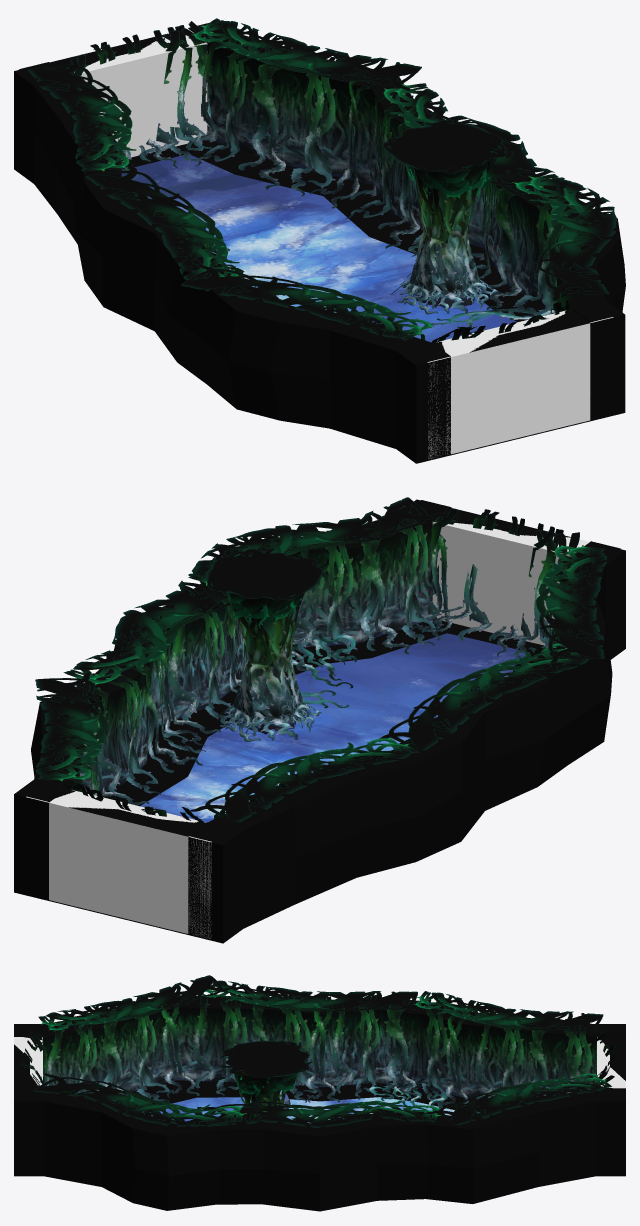
File: Dungeon_012_Road_002.fbx
3 renders of one model, top to bottom at view 1: azimuth 30°, elevation 25°; view 2: azimuth 150°, elevation 25°; view 3: azimuth 270°, elevation 25°, orthographic. The views are drawn at different scales.
Parts seen in each view (by area): view 1: Dan1, Dungeon_021_Tsuta_002, Dan2, Dungeon_021_Tsuta_001, DoorWay_NavMask (1), DoorWay_NavMask (×2), Dungeon_021_Object_011, Dan1_shadow, Dungeon_021_Object_010, un_021_Door_002_Object1 (×2), un_021_Door_002 (×2), Dungeon_021_Tsuta_003; view 2: Dan1, Dungeon_021_Tsuta_002, Dan2, Dungeon_021_Tsuta_001, DoorWay_NavMask (1), DoorWay_NavMask (×2), Dungeon_021_Object_011, un_021_Door_002_Object1 (×2), Dungeon_021_Object_010, Dan1_shadow, un_021_Door_002 (×2), Dungeon_021_Tsuta_003 (+1 smaller); view 3: Dan1, Dungeon_021_Tsuta_002, Dungeon_021_Tsuta_001, Dungeon_021_Object_010, Dan1_shadow, un_021_Door_002 (×2), Dan2, DoorWay_NavMask (×2), un_021_Door_002_Object1 (×2), Dungeon_021_Tsuta_003, Dungeon_021_Object_011.
Part boxes in pixels (bbox=[...]): Dan1: bbox=[14, 20, 625, 463]; Dungeon_021_Tsuta_002: bbox=[28, 18, 616, 340]; Dan2: bbox=[121, 155, 516, 342]; Dungeon_021_Tsuta_001: bbox=[54, 38, 591, 340]; DoorWay_NavMask (1): bbox=[427, 317, 613, 458]; DoorWay_NavMask (×2): bbox=[74, 29, 565, 356]; Dungeon_021_Object_011: bbox=[390, 165, 499, 314]; Dan1_shadow: bbox=[176, 140, 554, 322]; Dungeon_021_Object_010: bbox=[382, 120, 506, 199]; un_021_Door_002_Object1 (×2): bbox=[67, 21, 571, 343]; un_021_Door_002 (×2): bbox=[19, 23, 619, 455]; Dungeon_021_Tsuta_003: bbox=[216, 248, 554, 332]; Dan1: bbox=[14, 499, 625, 943]; Dungeon_021_Tsuta_002: bbox=[35, 497, 607, 822]; Dan2: bbox=[140, 633, 529, 822]; Dungeon_021_Tsuta_001: bbox=[56, 506, 588, 819]; DoorWay_NavMask (1): bbox=[26, 794, 211, 938]; DoorWay_NavMask (×2): bbox=[50, 522, 586, 822]; Dungeon_021_Object_011: bbox=[220, 598, 321, 741]; un_021_Door_002_Object1 (×2): bbox=[60, 508, 579, 822]; Dungeon_021_Object_010: bbox=[205, 548, 322, 628]; Dan1_shadow: bbox=[102, 619, 544, 806]; un_021_Door_002 (×2): bbox=[19, 500, 620, 934]; Dungeon_021_Tsuta_003: bbox=[286, 633, 357, 708]; Dan1: bbox=[14, 995, 625, 1211]; Dungeon_021_Tsuta_002: bbox=[33, 975, 611, 1128]; Dungeon_021_Tsuta_001: bbox=[44, 994, 592, 1123]; Dungeon_021_Object_010: bbox=[220, 1040, 312, 1098]; Dan1_shadow: bbox=[115, 1080, 509, 1112]; un_021_Door_002 (×2): bbox=[14, 1025, 625, 1099]; Dan2: bbox=[142, 1097, 479, 1123]; DoorWay_NavMask (×2): bbox=[14, 1037, 625, 1088]; un_021_Door_002_Object1 (×2): bbox=[19, 1028, 619, 1085]; Dungeon_021_Tsuta_003: bbox=[366, 1081, 447, 1110]; Dungeon_021_Object_011: bbox=[234, 1074, 285, 1116].
Size of what is drawn, in the model's own units: 9.14 by 3.03 by 15.
